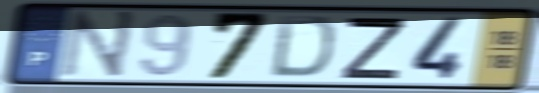4: (408, 13, 470, 84)
7: (207, 10, 271, 83)
9: (136, 12, 193, 80)
D: (266, 14, 338, 81)
N: (55, 8, 140, 82)
Z: (339, 15, 410, 82)
